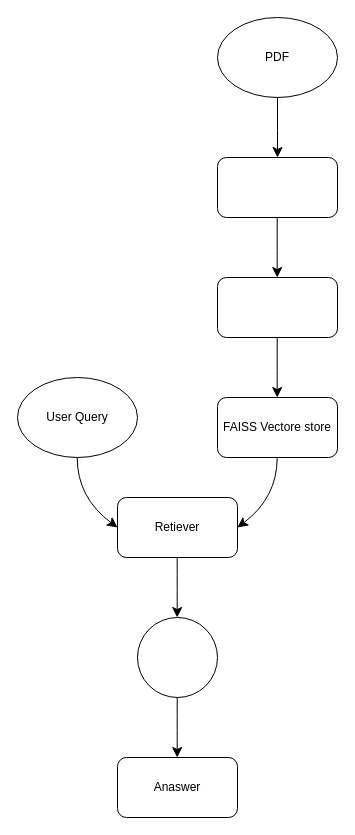
Some shapes in this 355 by 835 pixel diagram are drawn without their labels. The centre of each missing label's shape, as x and y in pixels:
"Chunking" belongs at pixel 277 187.
"Embedding Model" belongs at pixel 277 307.
"LLM" belongs at pixel 177 657.
